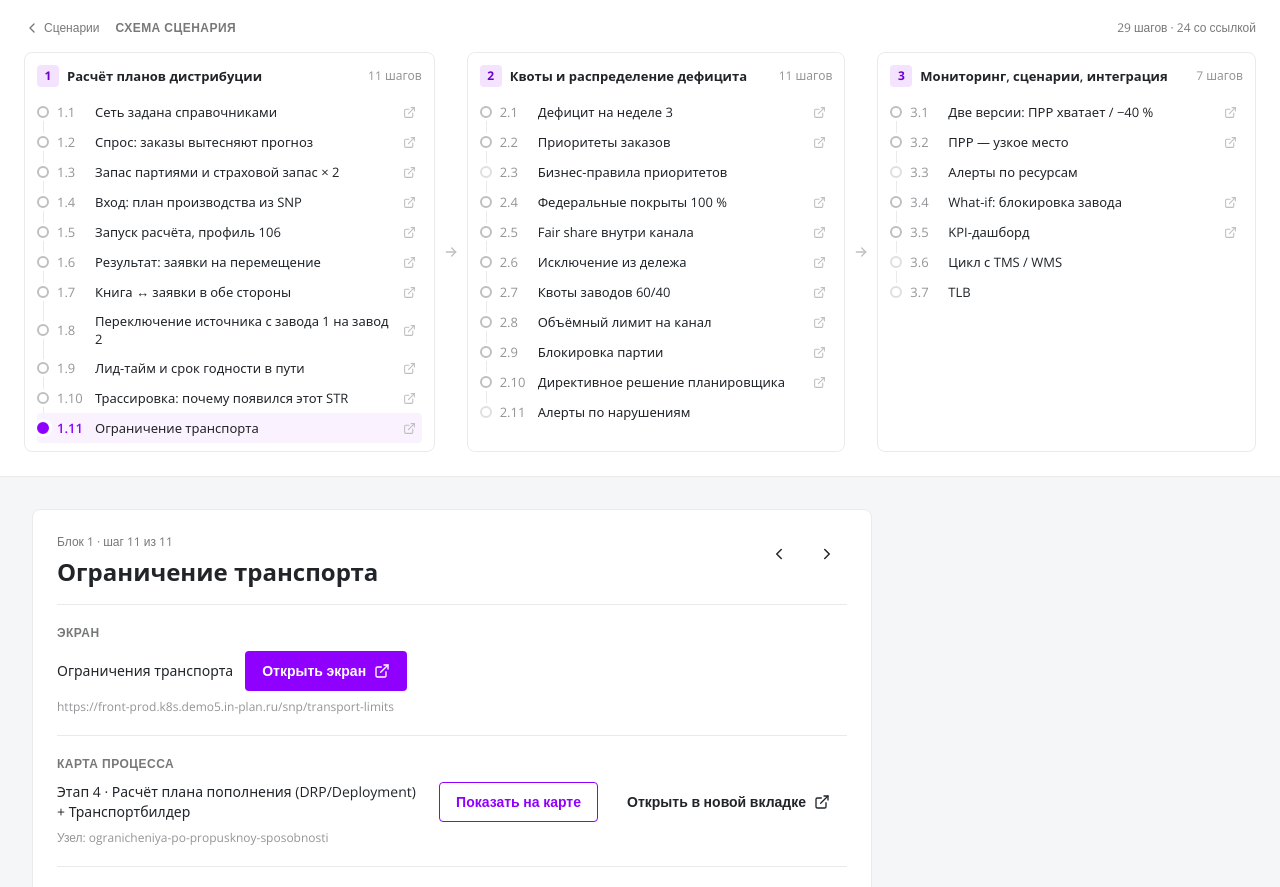
Test: ТК 13 (SPEC §8:409): «› на 1.11 → 2.1; ‹ на 1.1 `disabled`; › на 3.7 `disabled`; ← при фокусе в `input` не листает» › 1: клик «Следующий шаг» на 1.11 переводит на 2.1
Click the button named "Следующий шаг": (827, 554) [807, 534, 847, 574]
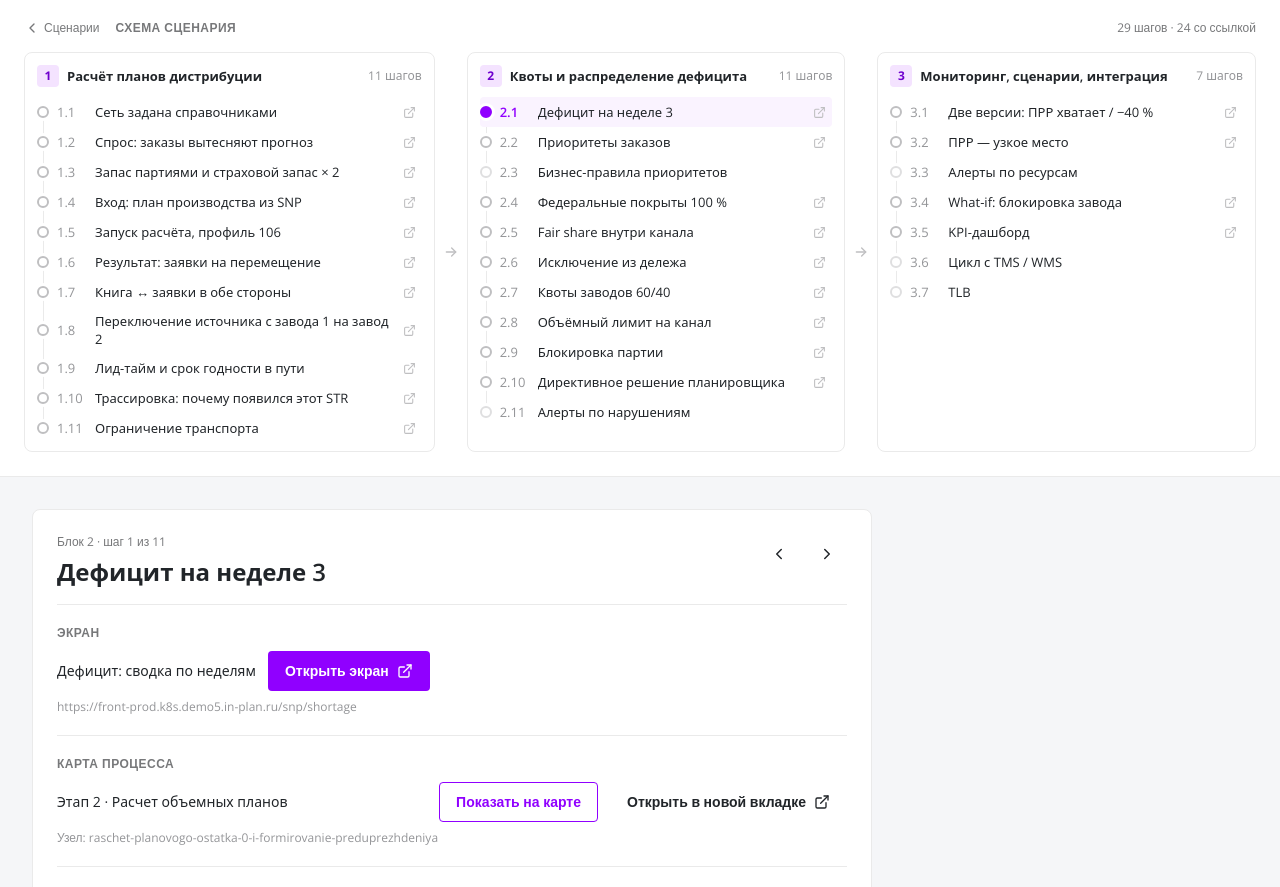
Expected: the heading "Дефицит на неделе 3" is shown, [57, 555, 326, 588]
